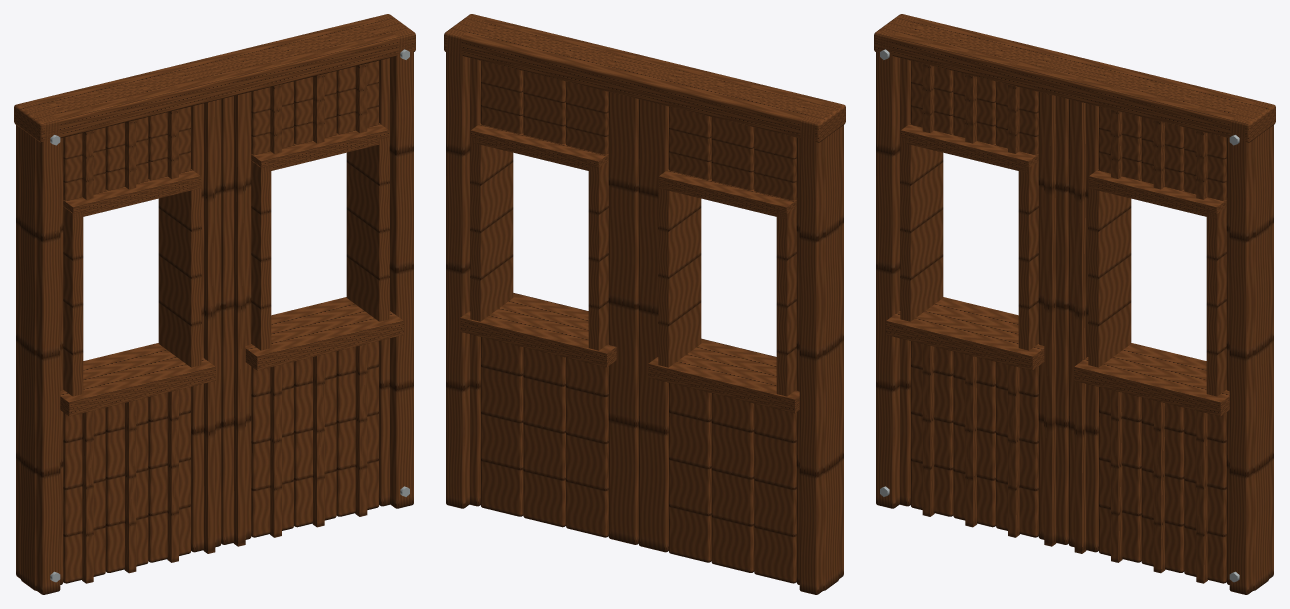
Rendered from rural-scavenging-settlements-cottage-double-window-wal-928806ef__26442.glb.
3 renders of one model, left to right at view 1: azimuth 30°, elevation 25°; view 2: azimuth 150°, elevation 25°; view 3: azimuth 330°, elevation 25°, orthographic.
Parts seen in each view (by area): view 1: cottage-double-window-wall; view 2: cottage-double-window-wall; view 3: cottage-double-window-wall.
Part boxes in pixels (x1,y1,x2,y2): cottage-double-window-wall: (14,14,415,594); cottage-double-window-wall: (444,14,845,594); cottage-double-window-wall: (874,14,1275,594).
Bounding box in the file's own units: 2 × 2.4 × 0.3601.
Materials: 2 (1 with a texture image).
